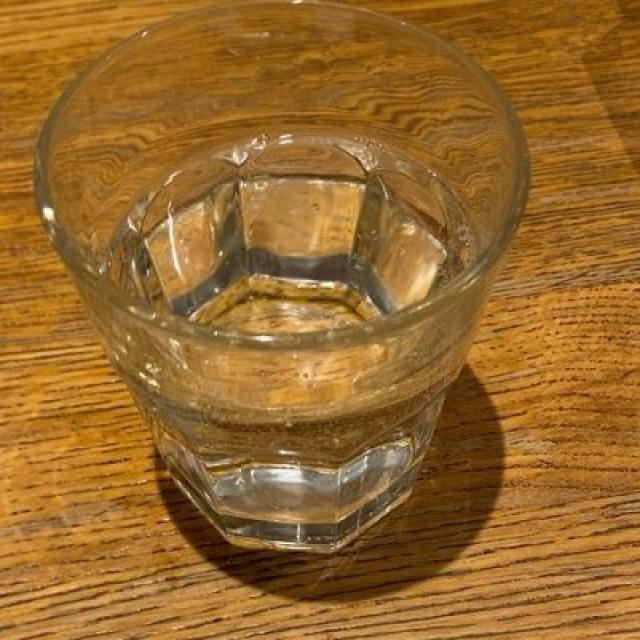water: (111, 138, 452, 343)
